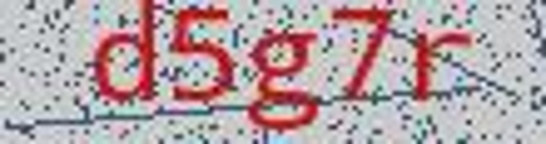5: (165, 8, 241, 113)
7: (325, 2, 401, 97)
d: (84, 2, 159, 119)
g: (248, 23, 322, 132)
r: (408, 20, 480, 108)
